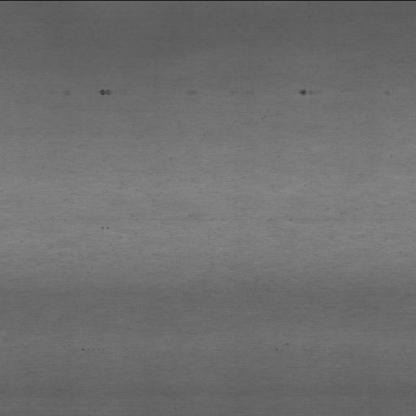oil_spot: (91, 84, 122, 98), (292, 88, 326, 99), (59, 89, 73, 98)
